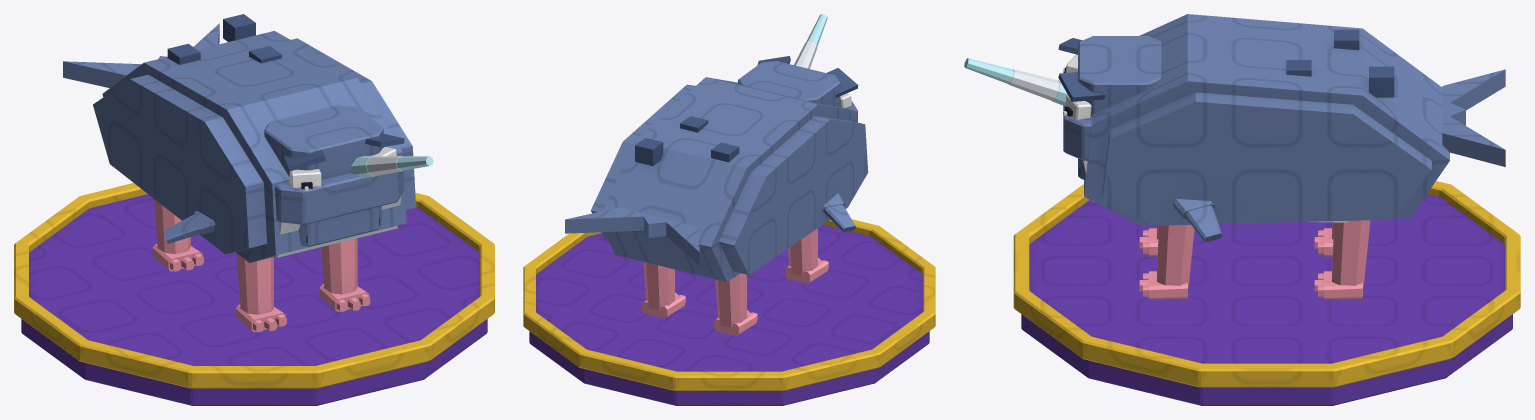
Rendered from LeggedNarwhal.fbx.
The picture shows the model from 3 angles, left to right: view 1: azimuth 30°, elevation 25°; view 2: azimuth 150°, elevation 25°; view 3: azimuth 270°, elevation 25°; orthographic projection. The views are drawn at different scales.
Parts seen in each view (by area): view 1: Art_LeggedNarwhal_Stand, Art_LeggedNarwhal_Body, Art_LeggedNarwhal_LegFR, Art_LeggedNarwhal_LegFL, Art_LeggedNarwhal_LegBR, Art_LeggedNarwhal_Tail, Art_LeggedNarwhal_Horn; view 2: Art_LeggedNarwhal_Stand, Art_LeggedNarwhal_Body, Art_LeggedNarwhal_Tail, Art_LeggedNarwhal_LegBR, Art_LeggedNarwhal_LegBL, Art_LeggedNarwhal_LegFR, Art_LeggedNarwhal_Horn; view 3: Art_LeggedNarwhal_Stand, Art_LeggedNarwhal_Body, Art_LeggedNarwhal_Tail, Art_LeggedNarwhal_LegBL, Art_LeggedNarwhal_LegFL, Art_LeggedNarwhal_Horn.
Part boxes in pixels (x1,y1,x2,y2): Art_LeggedNarwhal_Stand: (14, 183, 494, 405); Art_LeggedNarwhal_Body: (93, 14, 416, 262); Art_LeggedNarwhal_LegFR: (235, 253, 286, 332); Art_LeggedNarwhal_LegFL: (319, 238, 370, 311); Art_LeggedNarwhal_LegBR: (152, 199, 203, 271); Art_LeggedNarwhal_Tail: (63, 23, 219, 87); Art_LeggedNarwhal_Horn: (350, 155, 433, 177); Art_LeggedNarwhal_Stand: (523, 219, 935, 405); Art_LeggedNarwhal_Body: (591, 56, 868, 281); Art_LeggedNarwhal_Tail: (565, 207, 699, 265); Art_LeggedNarwhal_LegBR: (714, 273, 757, 335); Art_LeggedNarwhal_LegBL: (642, 262, 685, 318); Art_LeggedNarwhal_LegFR: (785, 228, 828, 283); Art_LeggedNarwhal_Horn: (794, 14, 827, 68); Art_LeggedNarwhal_Stand: (1013, 181, 1520, 405); Art_LeggedNarwhal_Body: (1058, 14, 1449, 242); Art_LeggedNarwhal_Tail: (1442, 69, 1505, 166); Art_LeggedNarwhal_LegBL: (1314, 220, 1370, 299); Art_LeggedNarwhal_LegFL: (1139, 224, 1194, 299); Art_LeggedNarwhal_Horn: (964, 58, 1067, 105).
Size of the model in its own units: 3.19 by 1.81 by 3.5.
